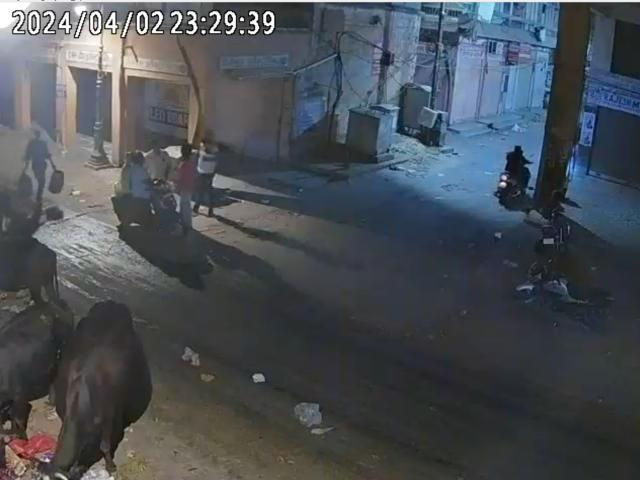cattle: (36, 302, 159, 480), (0, 293, 73, 441)
motorbike: (516, 258, 612, 332), (538, 188, 571, 263)
no_helmet: (132, 150, 148, 167)
person: (17, 129, 70, 207), (174, 142, 200, 235), (194, 130, 220, 216)
scooty-rider: (107, 152, 185, 238)
